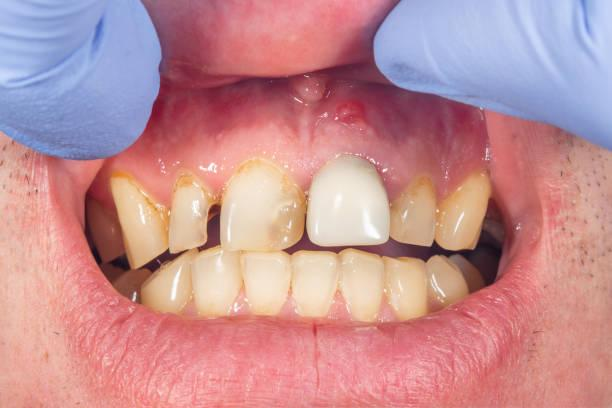Calculus: (100, 162, 183, 263), (432, 166, 496, 258)
Discoloration: (212, 161, 311, 258), (380, 157, 451, 251), (157, 173, 219, 254)
